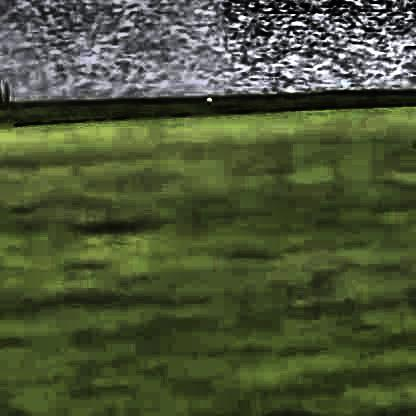golfball: (202, 95, 212, 102)
